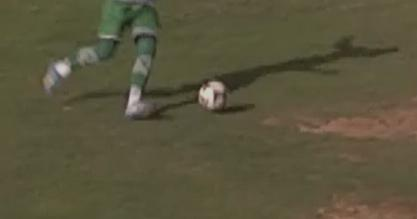ball: (193, 75, 231, 117)
